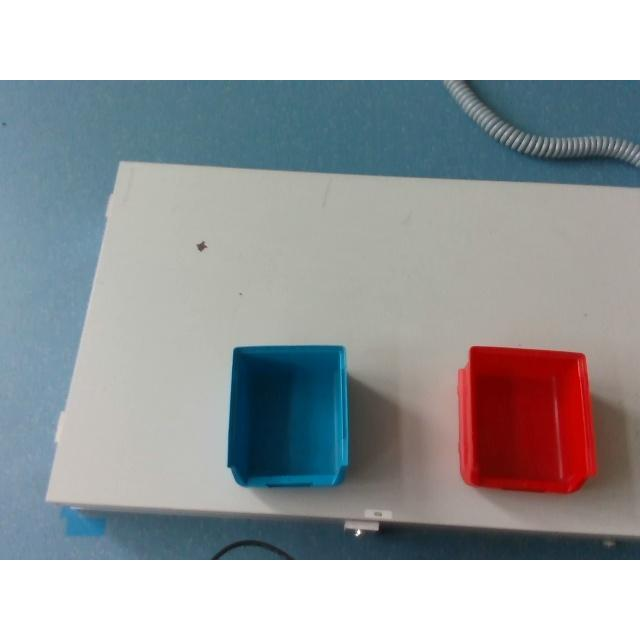container_box_blue: (226, 344, 350, 488)
container_box_red: (456, 344, 596, 494)
